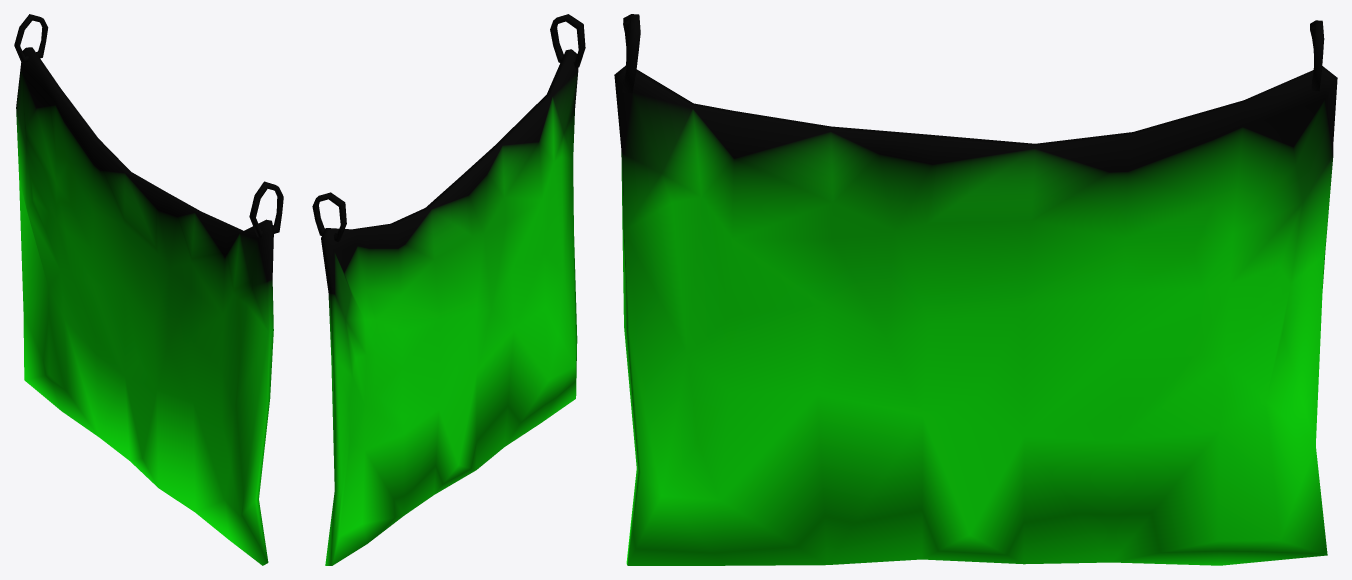
File: SM_Market_Stall_Cloth_Wall_Short_Stripes_01.fbx
3 views of the same model, side by side, from view 1: azimuth 30°, elevation 25°; view 2: azimuth 150°, elevation 25°; view 3: azimuth 270°, elevation 25° (orthographic). The views are drawn at different scales.
Visible parts, largest first — view 1: market-stall-cloth-wall-short-stripes; view 2: market-stall-cloth-wall-short-stripes; view 3: market-stall-cloth-wall-short-stripes.
Part boxes in pixels (left/top/right/bottom): market-stall-cloth-wall-short-stripes: left=14, top=14, right=283, bottom=565; market-stall-cloth-wall-short-stripes: left=312, top=14, right=585, bottom=565; market-stall-cloth-wall-short-stripes: left=614, top=14, right=1337, bottom=565.
Bounding box in the file's own units: 20.87 × 233 × 276.
